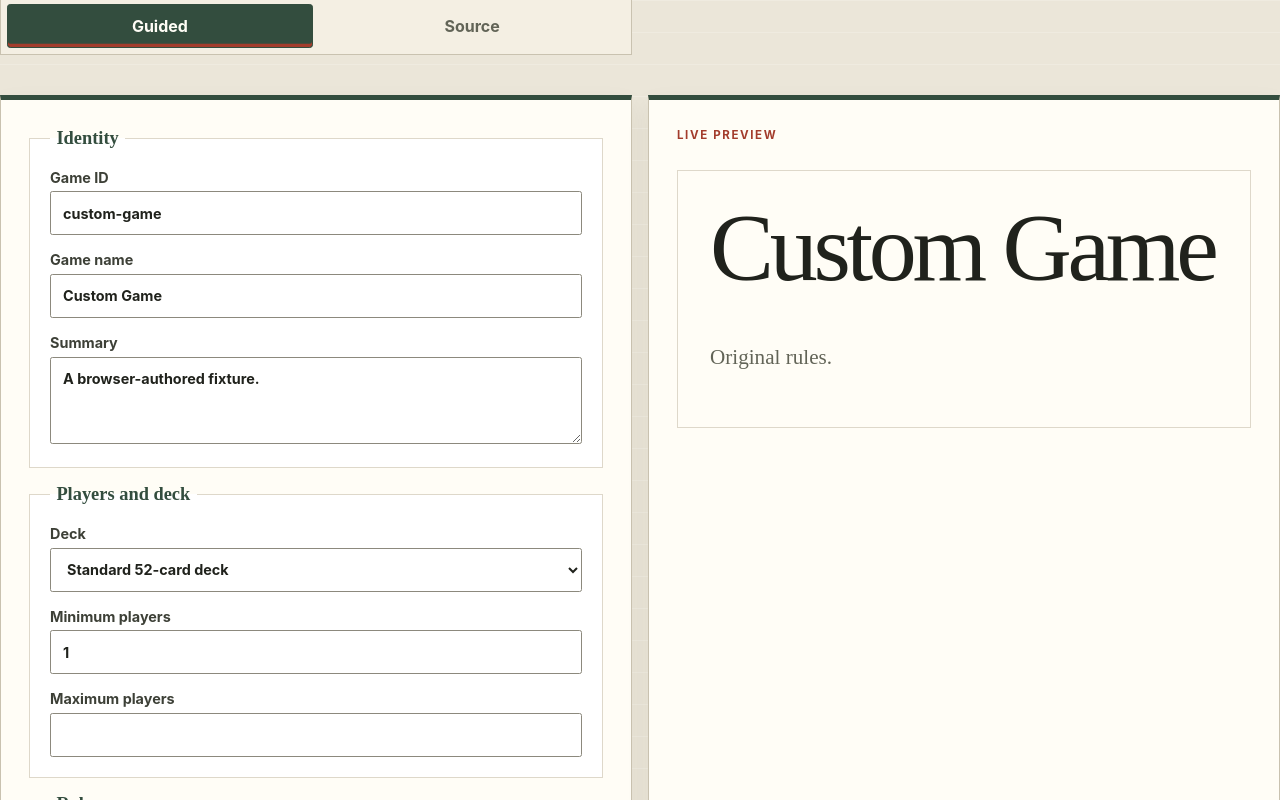
Scenario: Game Studio › warns before a guided edit would normalize an inline YAML comment
(page scrolled)
Replace the text in the text box labelled "Summary" with "Changed summary" at (316, 400), box 50,357 -> 582,444
(page scrolled)
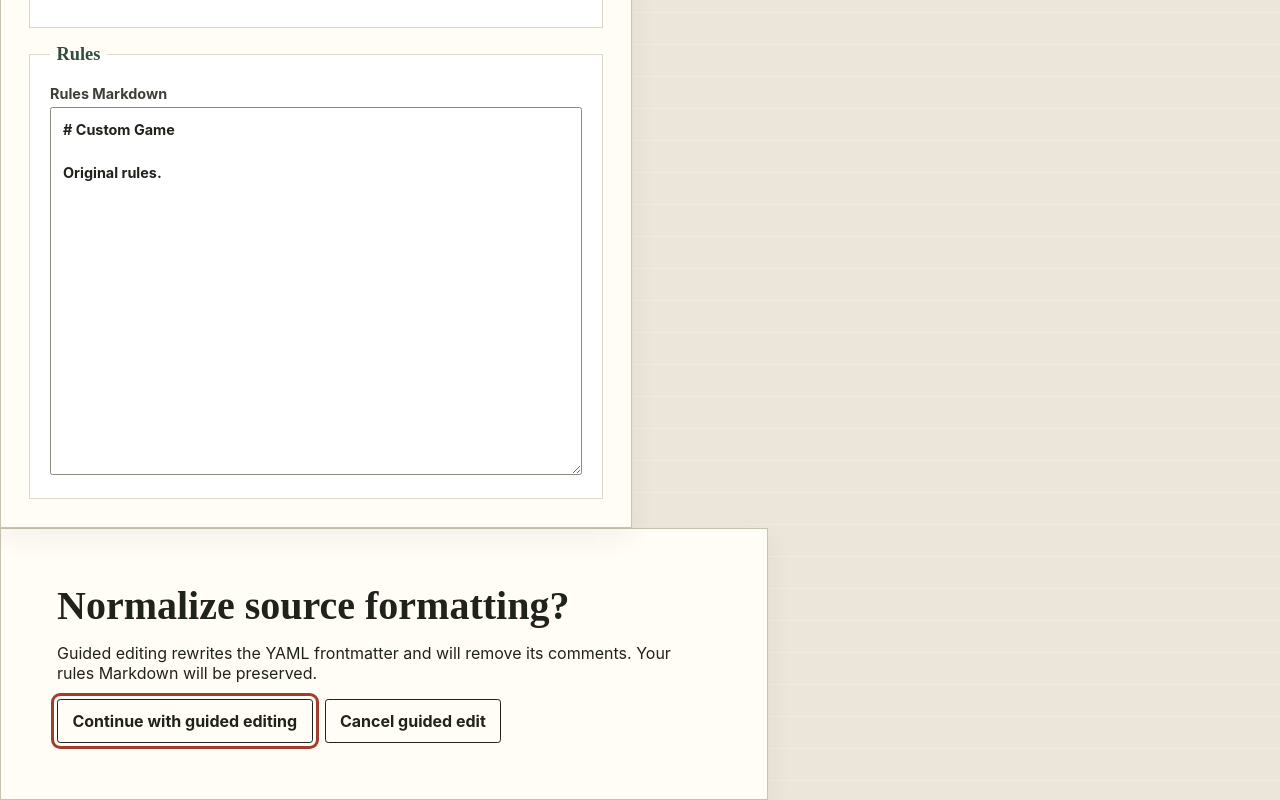
Check: the dialog "Normalize source formatting?" is shown, box 0,528 -> 768,799
